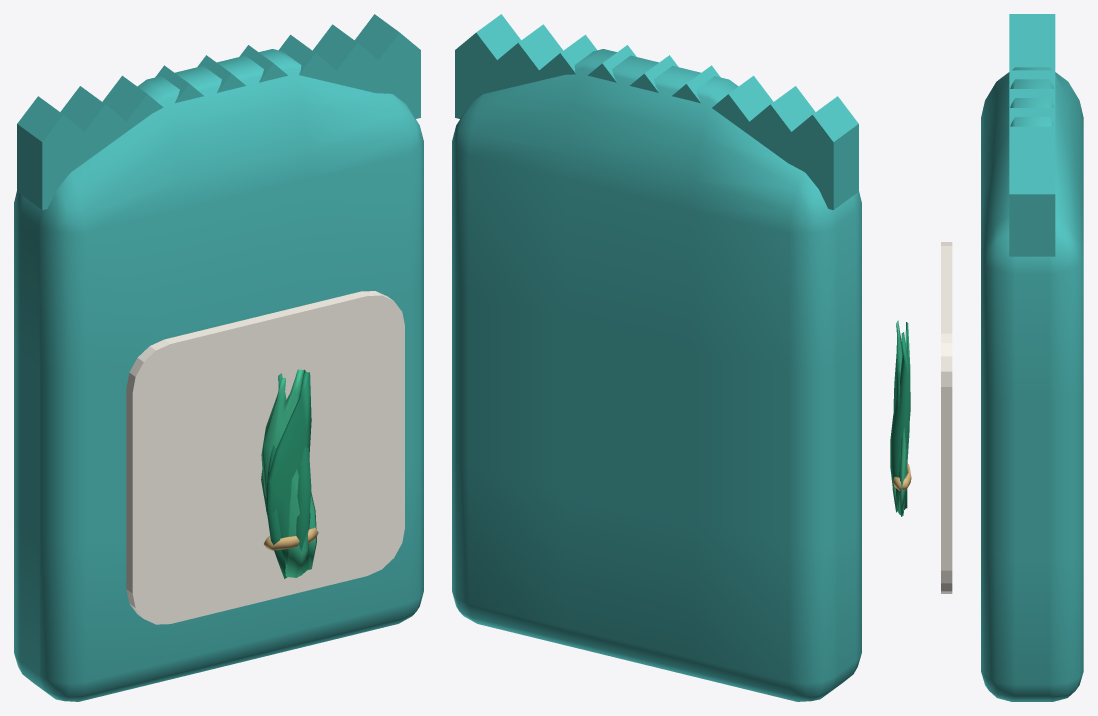
The model's file is semente-alga.glb.
3 views of the same model, side by side, from view 1: azimuth 30°, elevation 25°; view 2: azimuth 150°, elevation 25°; view 3: azimuth 270°, elevation 25° (orthographic). The views are drawn at different scales.
Visible parts, largest first — view 1: semente-alga; view 2: semente-alga; view 3: semente-alga.
Boxes of the visible parts, x1=… form: semente-alga: x1=14, y1=14, x2=423, y2=701; semente-alga: x1=452, y1=14, x2=861, y2=701; semente-alga: x1=890, y1=14, x2=1083, y2=701.
Size of the model in its own units: 0.14 by 0.208 by 0.0677.
